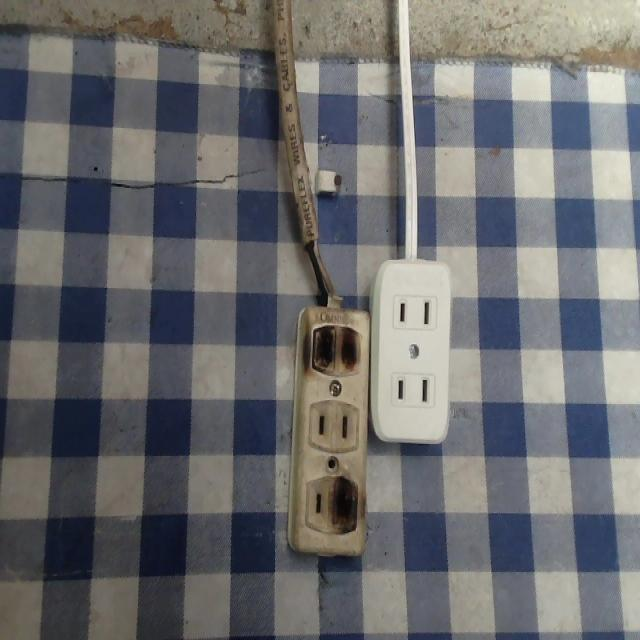-: (307, 319, 364, 373), (325, 476, 361, 539)
